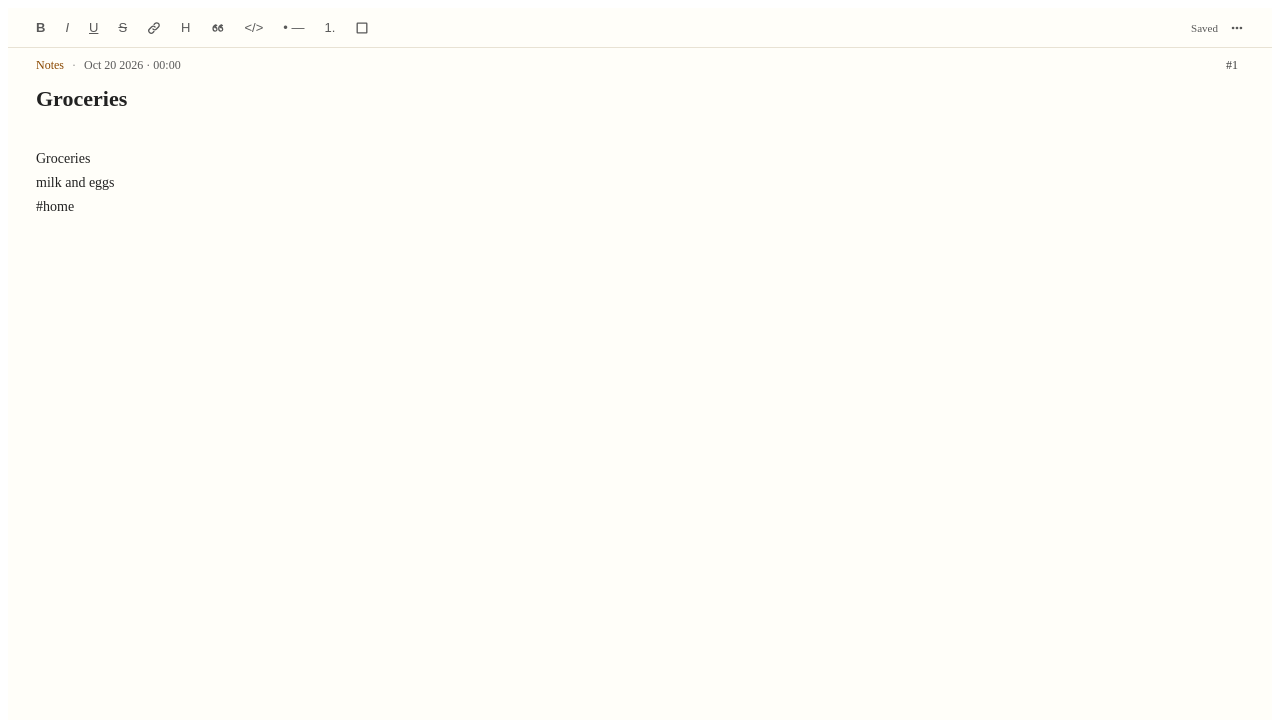
it: Tags popover in the editor › closing returns focus to #N
The image size is (1280, 720).
Click the button with class "meta-tags": click(1232, 65) [1220,56,1244,74]
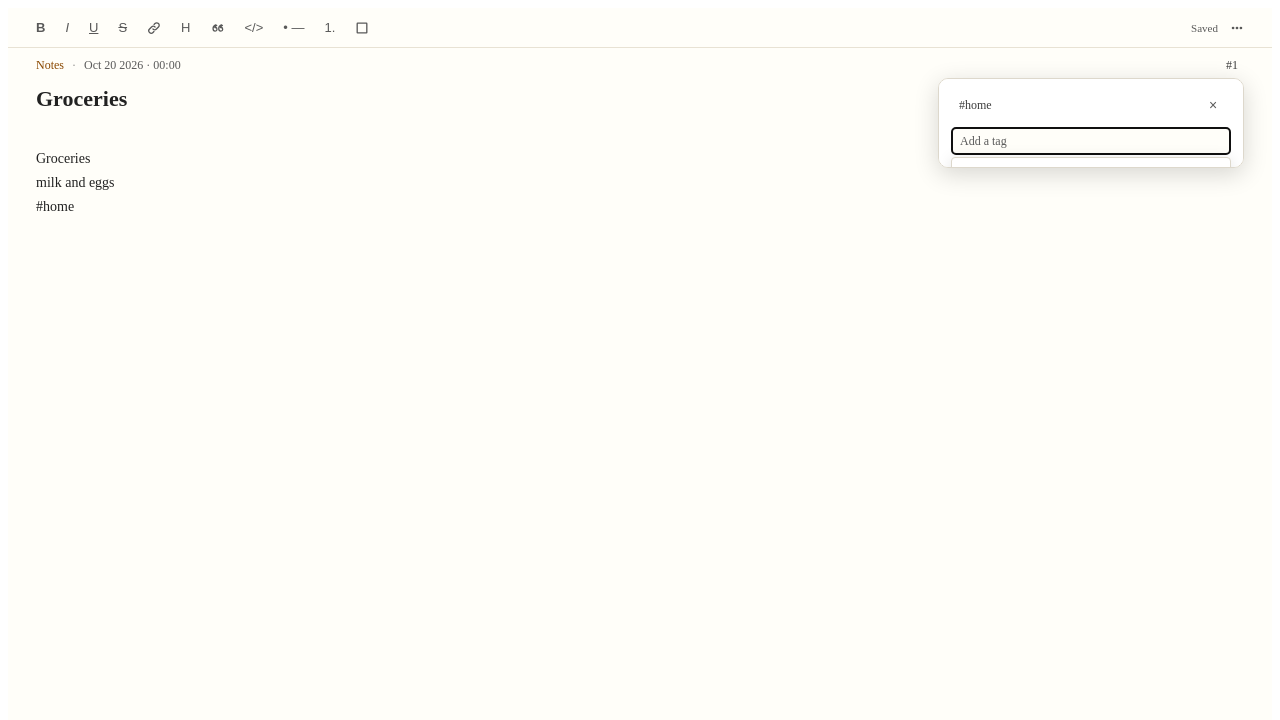
Press Escape in the dropdown with class "tag-input", box [951,127,1231,155]
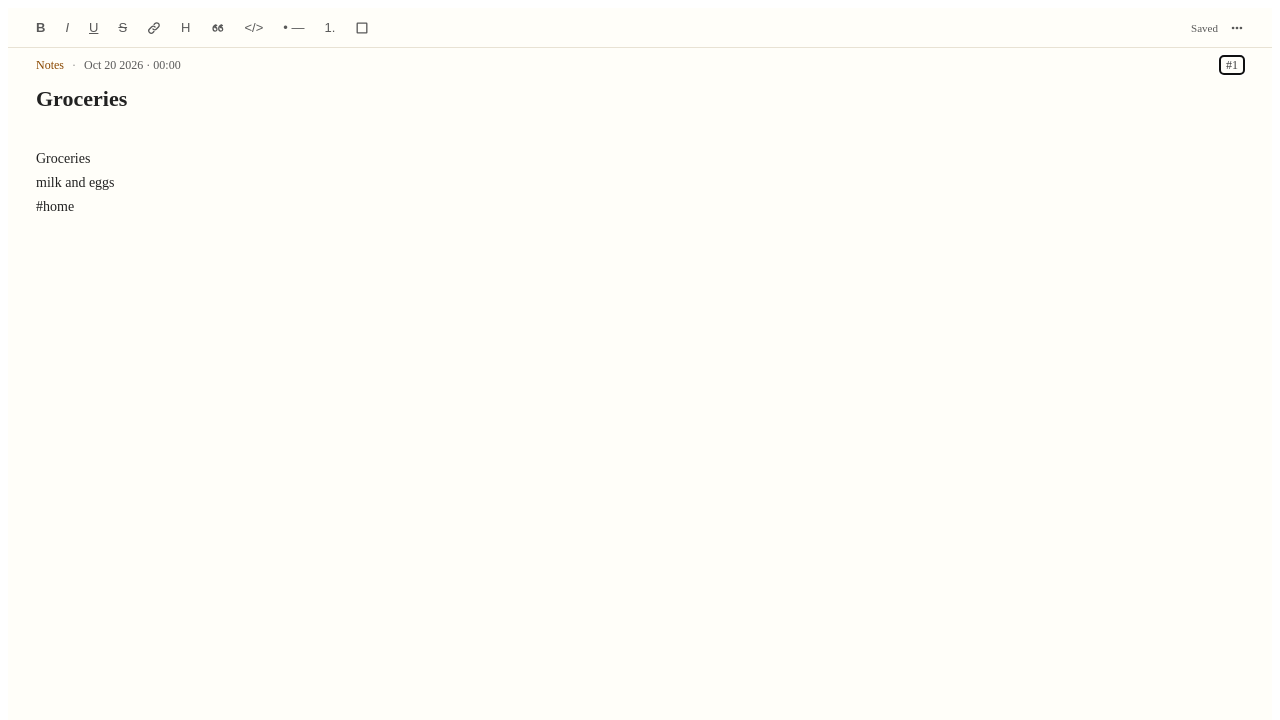
Expected: the dialog with test id "tags-popover" is gone
